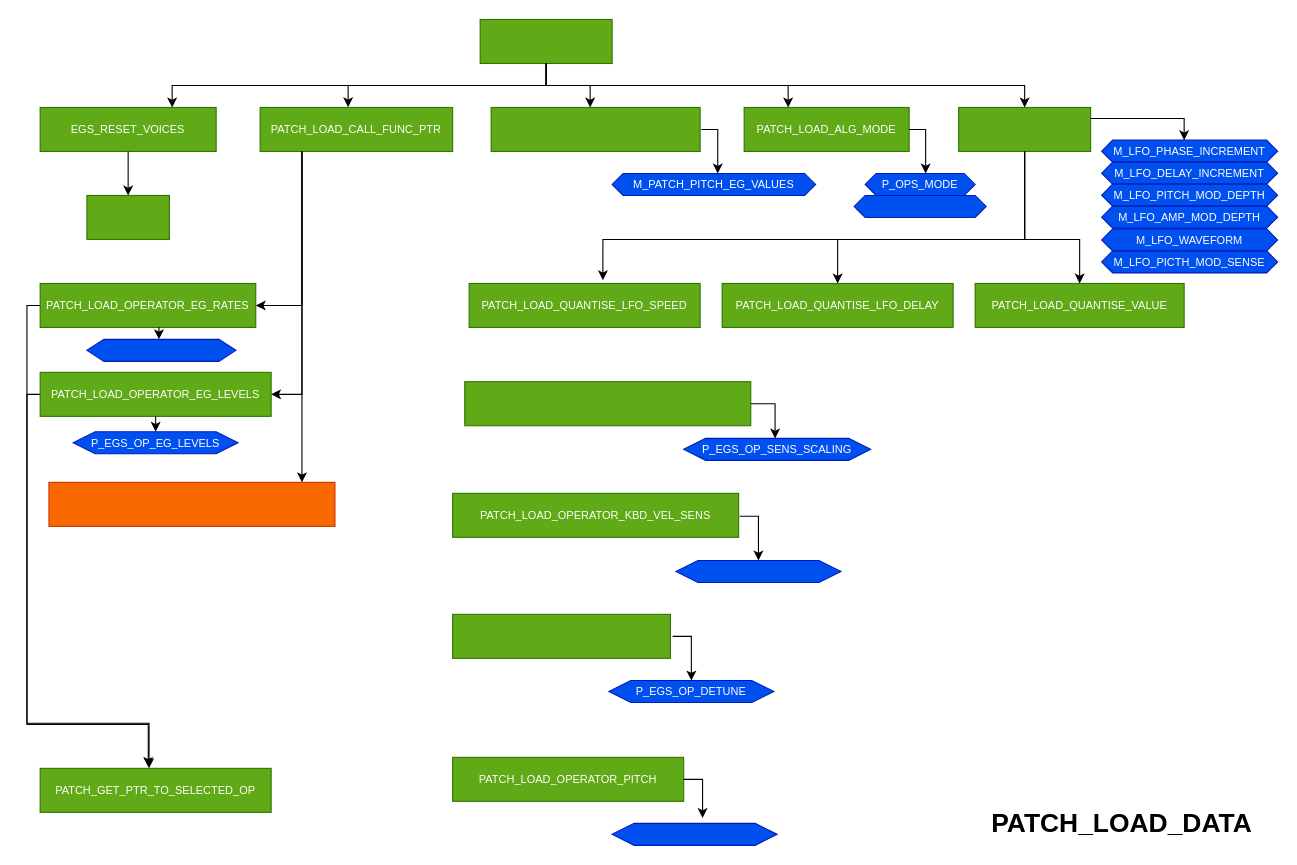
The diagram is 1297 pixels wide and 865 high, and some of its shapes have lost their labels. The shapes that lost their labels are listed below. From the top down, each one's centre as x and y in pixels, then its label:
the point at 545,40: PATCH_ACTIVATE
the point at 595,128: PATCH_LOAD_PITCH_EG_VALUES
the point at 1024,128: PATCH_LOAD_LFO
the point at 127,216: DELAY
the point at 919,205: P_OPS_ALG_FDBK
the point at 161,349: P_EGS_OP_EG_RATES
the point at 607,403: PATCH_LOAD_OPERATOR_KBD_RATE_SCALING
the point at 191,503: PATCH_LOAD_OPERATOR_KBD_SCALING
the point at 758,570: M_PATCH_OP_SENSE
the point at 561,635: PATCH_LOAD_OPERATOR_DETUNE
the point at 694,833: P_EGS_OP_PITCH
